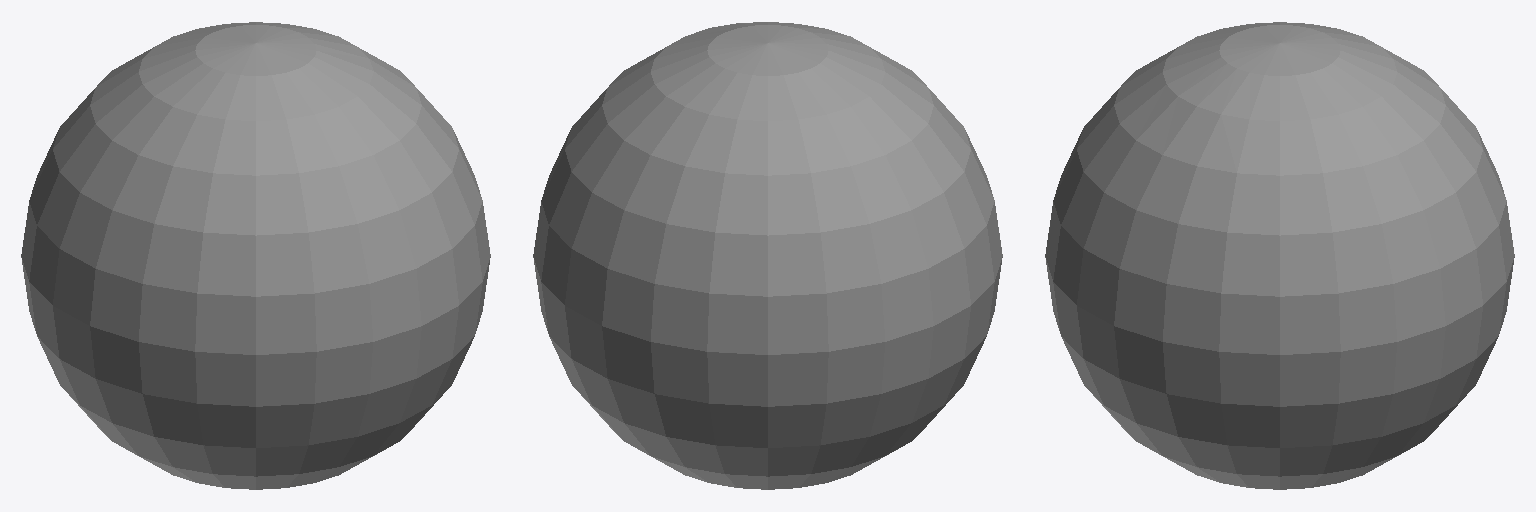
Rendered from sculptris.obj.
The picture shows the model from 3 angles: view 1: azimuth 30°, elevation 25°; view 2: azimuth 150°, elevation 25°; view 3: azimuth 270°, elevation 25°; orthographic projection.
Visible parts, largest first — view 1: Mesh_default.001; view 2: Mesh_default.001; view 3: Mesh_default.001.
Part boxes in pixels (bbox=[...]): Mesh_default.001: bbox=[21, 22, 490, 489]; Mesh_default.001: bbox=[533, 22, 1002, 489]; Mesh_default.001: bbox=[1045, 22, 1514, 489].
Size of the model in its own units: 1 by 1 by 1.